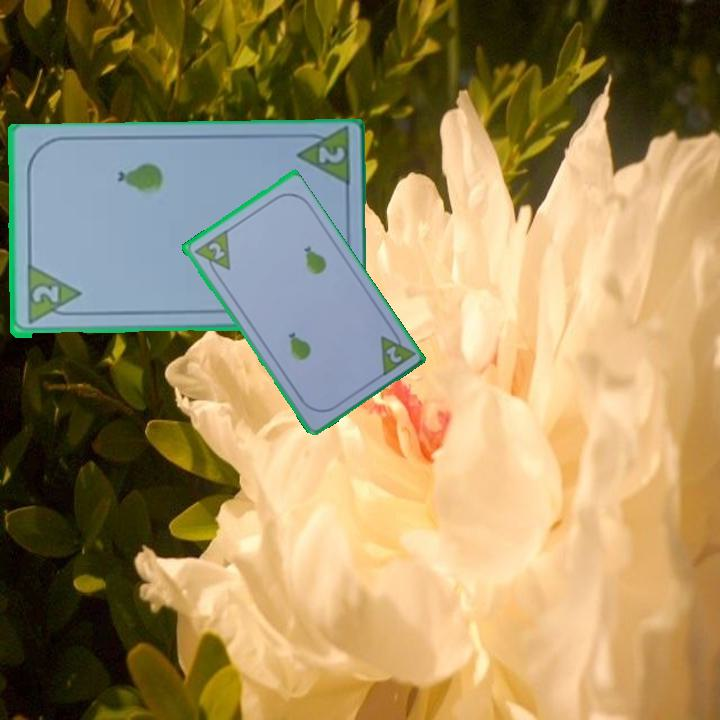2p: (376, 324, 417, 380), (190, 227, 233, 280), (314, 143, 347, 167), (28, 283, 61, 306)
